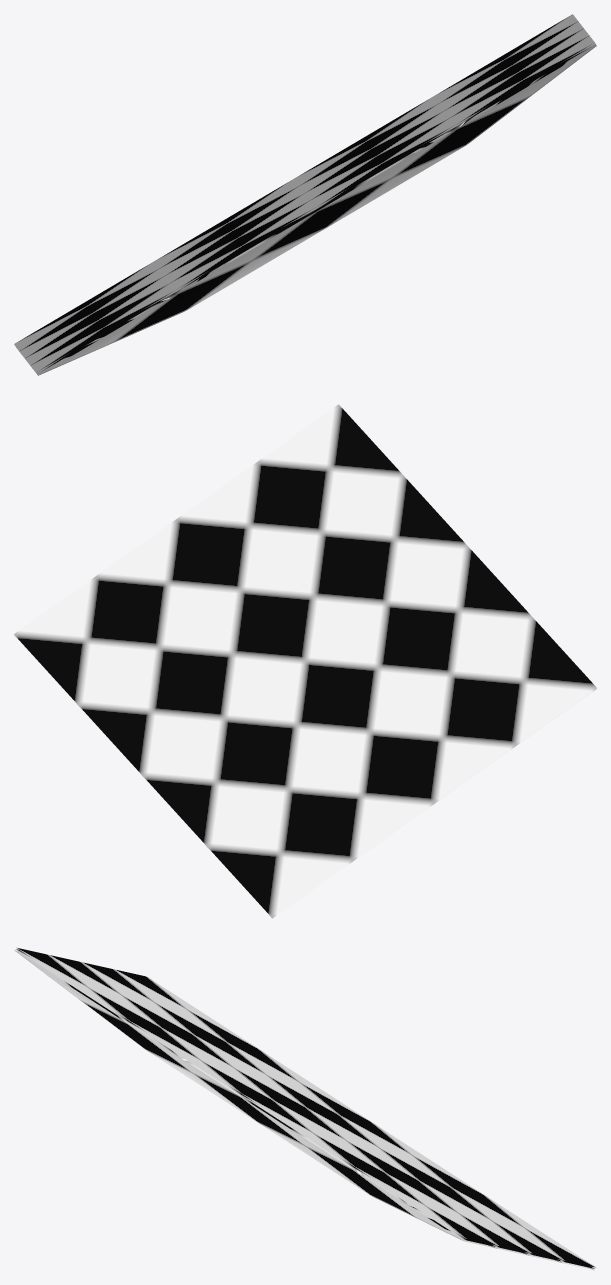
The model's file is initqu57.dae.
The picture shows the model from 3 angles, top to bottom: view 1: azimuth 30°, elevation 25°; view 2: azimuth 150°, elevation 25°; view 3: azimuth 270°, elevation 25°; orthographic projection. The views are drawn at different scales.
Visible parts, largest first — view 1: item; view 2: item; view 3: item.
Part boxes in pixels (left/top/right/bottom): item: left=14, top=14, right=596, bottom=375; item: left=14, top=404, right=596, bottom=918; item: left=14, top=947, right=595, bottom=1270.
Bounding box in the file's own units: 1.54 × 1.26 × 1.
Materials: 1 (1 with a texture image).
